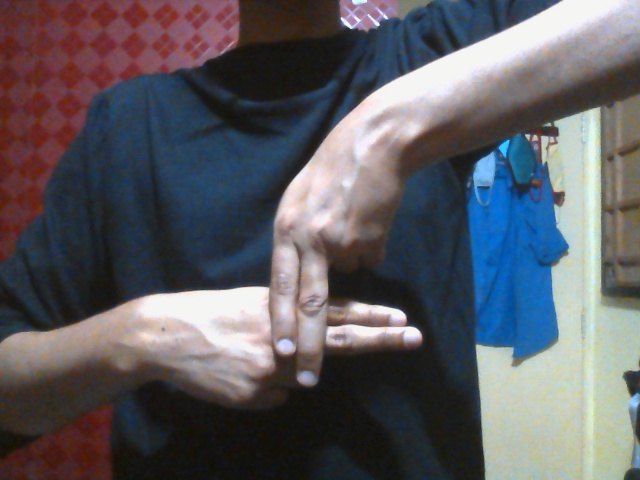F: (171, 149, 424, 413)
